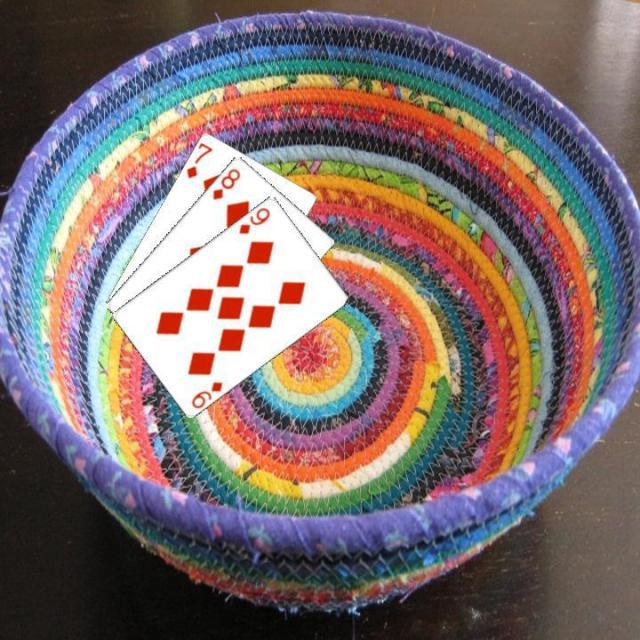7D: (182, 139, 214, 181)
8D: (209, 164, 242, 202)
9D: (235, 203, 273, 236), (188, 377, 224, 410)
